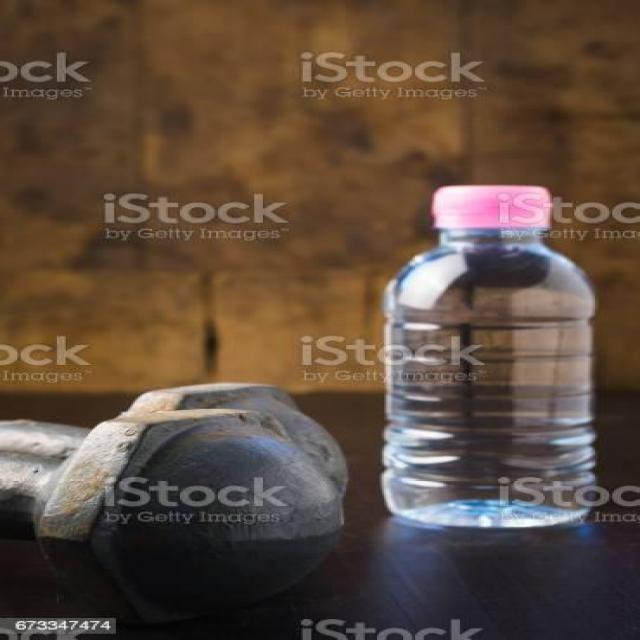bottle: (360, 174, 627, 546)
